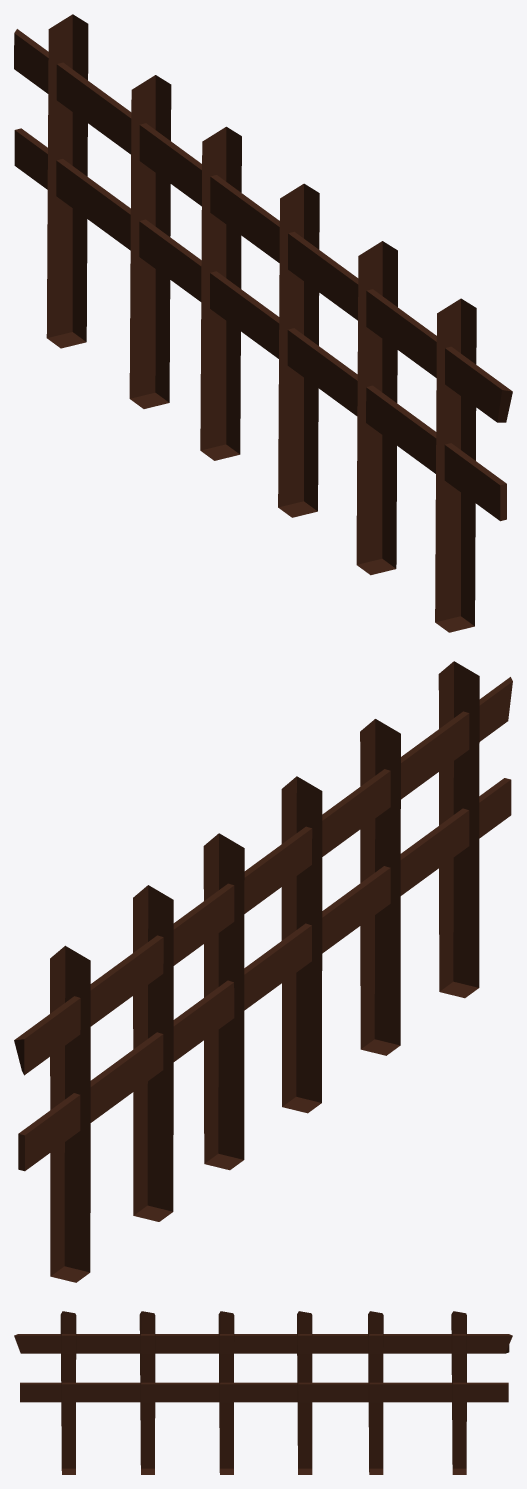
Rendered from woodfence.obj.
The picture shows the model from 3 angles, top to bottom: view 1: azimuth 30°, elevation 25°; view 2: azimuth 150°, elevation 25°; view 3: azimuth 270°, elevation 25°; orthographic projection. The views are drawn at different scales.
Parts seen in each view (by area): view 1: Cube.002; view 2: Cube.002; view 3: Cube.002.
Part boxes in pixels (x1,y1,x2,y2): Cube.002: (14,14,512,632); Cube.002: (14,661,512,1282); Cube.002: (14,1311,512,1474).
Bounding box in the file's own units: 0.1826 × 2.03 × 5.71.
